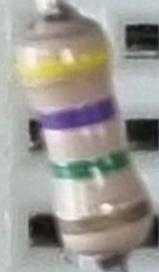Blue: (37, 92, 121, 132)
Green: (52, 145, 135, 185)
Side-Silver: (58, 197, 153, 236)
Yellow: (16, 43, 113, 87)
